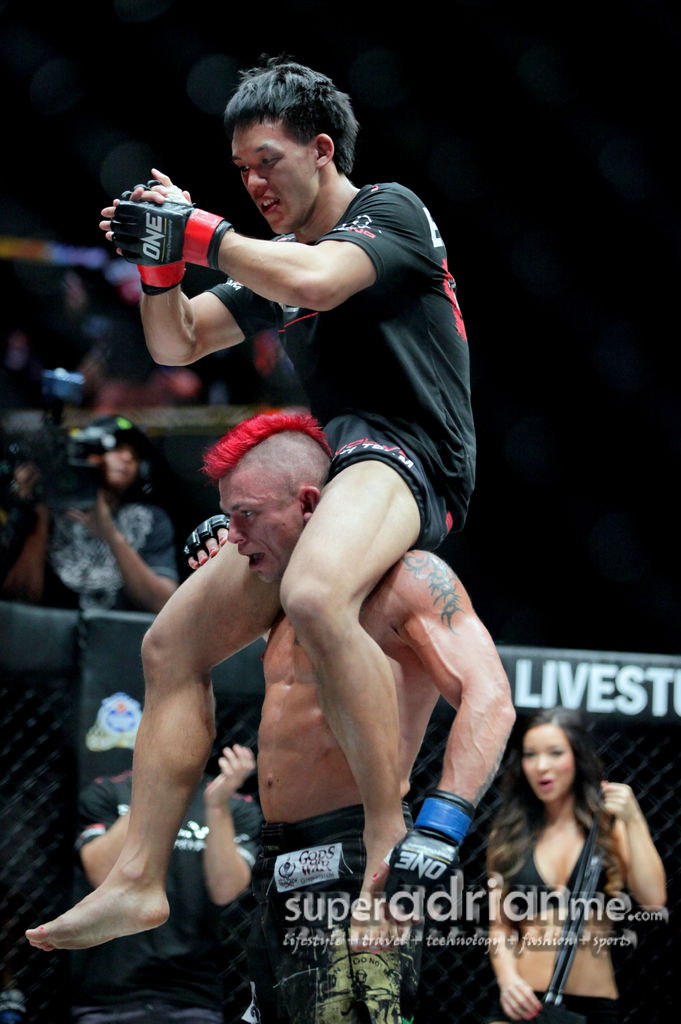Person: (0, 50, 667, 1023)
